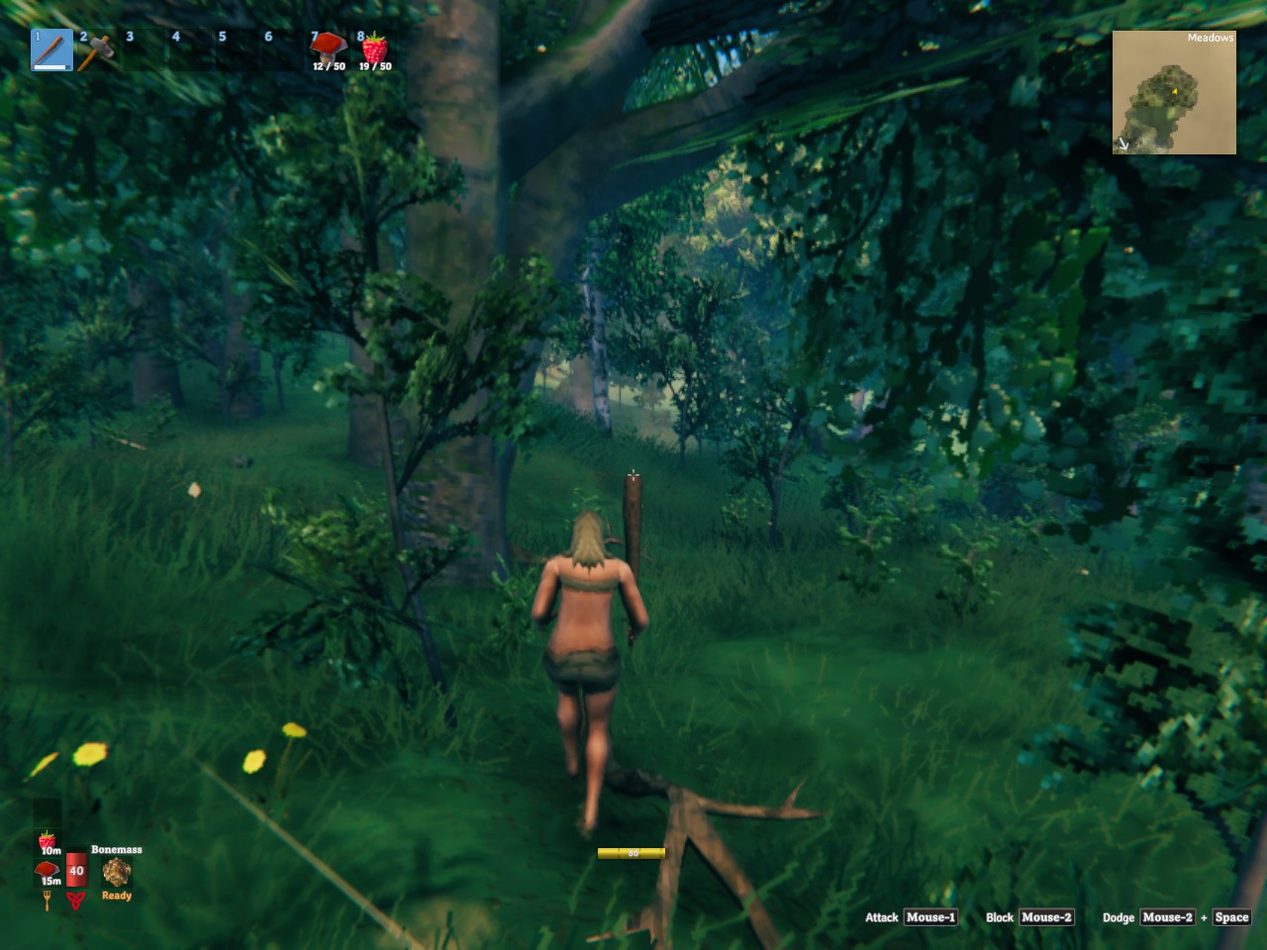Branch: (587, 768, 824, 949)
Stone: (232, 455, 252, 467)
